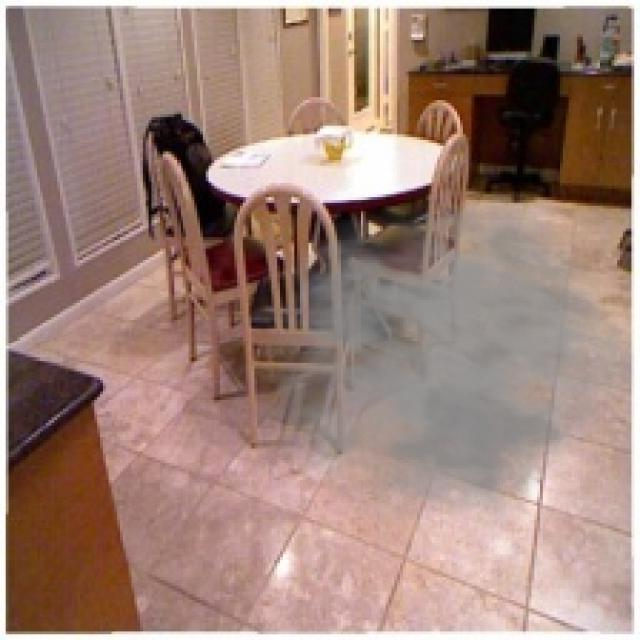Smoke: (222, 191, 638, 543)
